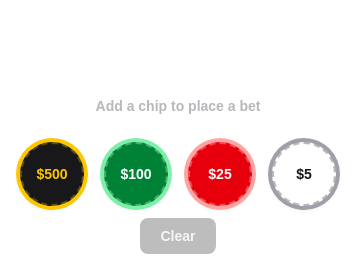
Test: item 8: chip-based betting › Clear resets the wager to zero and disables the commit circle
This screenshot has width=357, height=271.
What coordinates should you click on to do the following:
click the button named "Add $100 chip"
I would click on:
 (136, 174)
Its box is top-left (104, 142), bottom-right (168, 206).
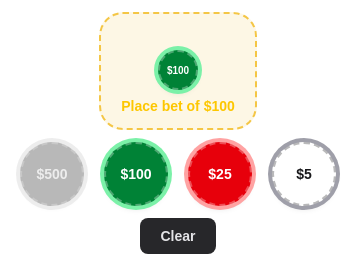
What coordinates should you click on to do the following:
click the button "Clear"
I would click on:
 (178, 236)
Its box is top-left (140, 218), bottom-right (216, 254).
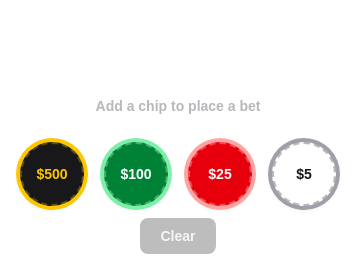
Expected: the button "Bet Add a chip to place a bet" is disabled, top-left (74, 12), bottom-right (282, 130)
